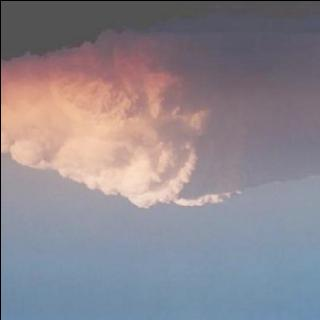Cumulonimbus: (0, 0, 320, 213)
